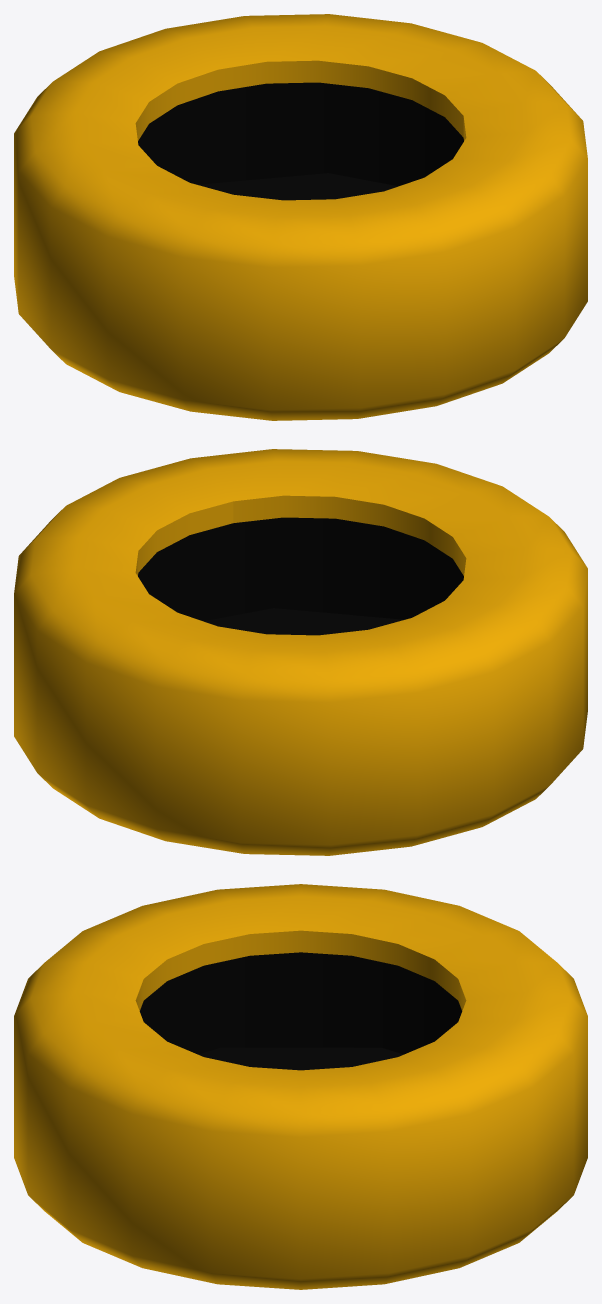
Rendered from prop_tyre_1x1_B.FBX.
The picture shows the model from 3 angles, top to bottom: view 1: azimuth 30°, elevation 25°; view 2: azimuth 150°, elevation 25°; view 3: azimuth 270°, elevation 25°; orthographic projection.
Visible parts, largest first — view 1: prop_tyre_2; view 2: prop_tyre_2; view 3: prop_tyre_2.
Boxes of the visible parts, x1,y1,x2,y2 form: prop_tyre_2: (14, 14, 587, 420); prop_tyre_2: (14, 449, 587, 855); prop_tyre_2: (14, 884, 587, 1289).
Size of the model in its own units: 33.16 by 12.12 by 33.16.
Materials: 1 (1 with a texture image).
